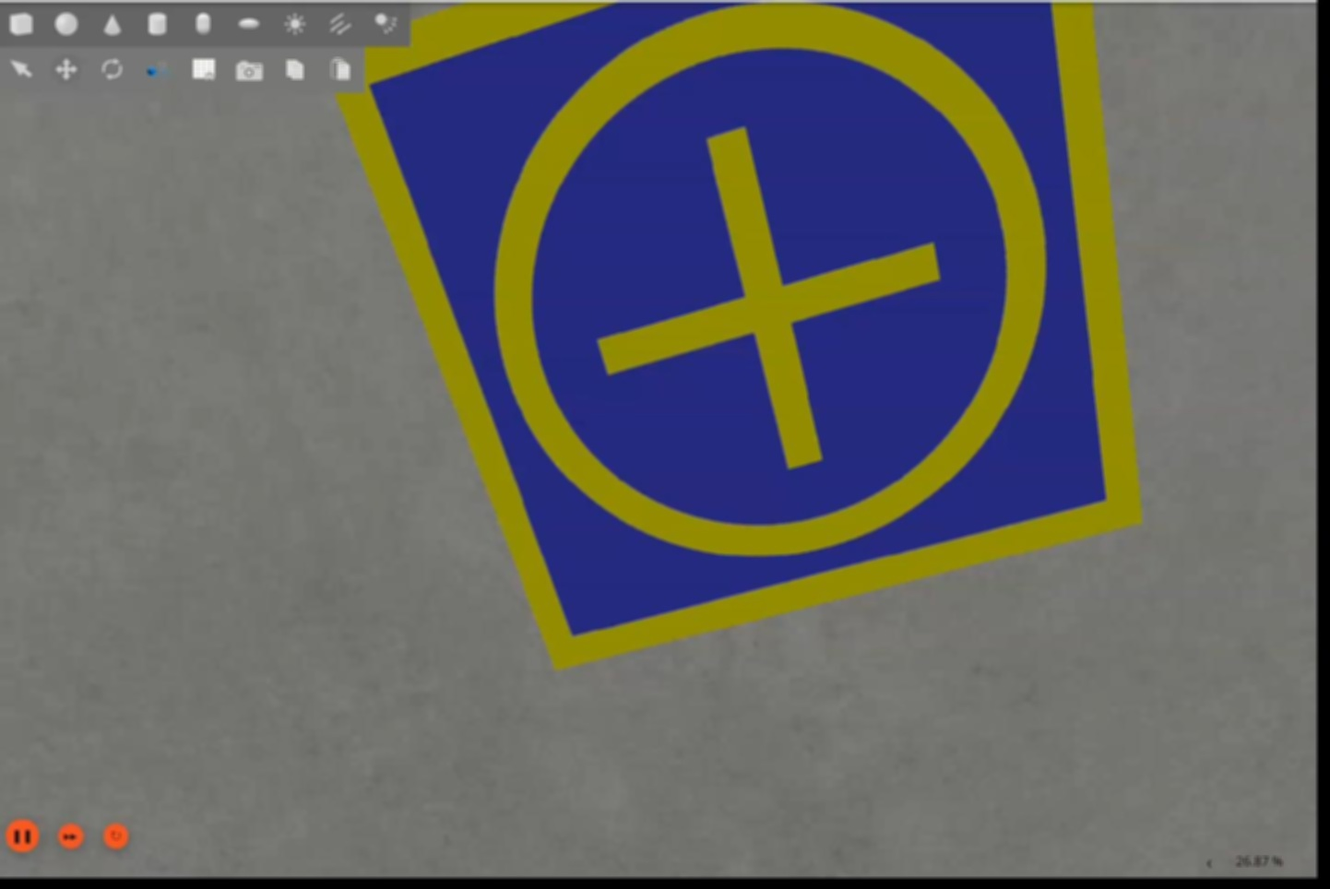small_base: (336, 1, 1149, 676)
